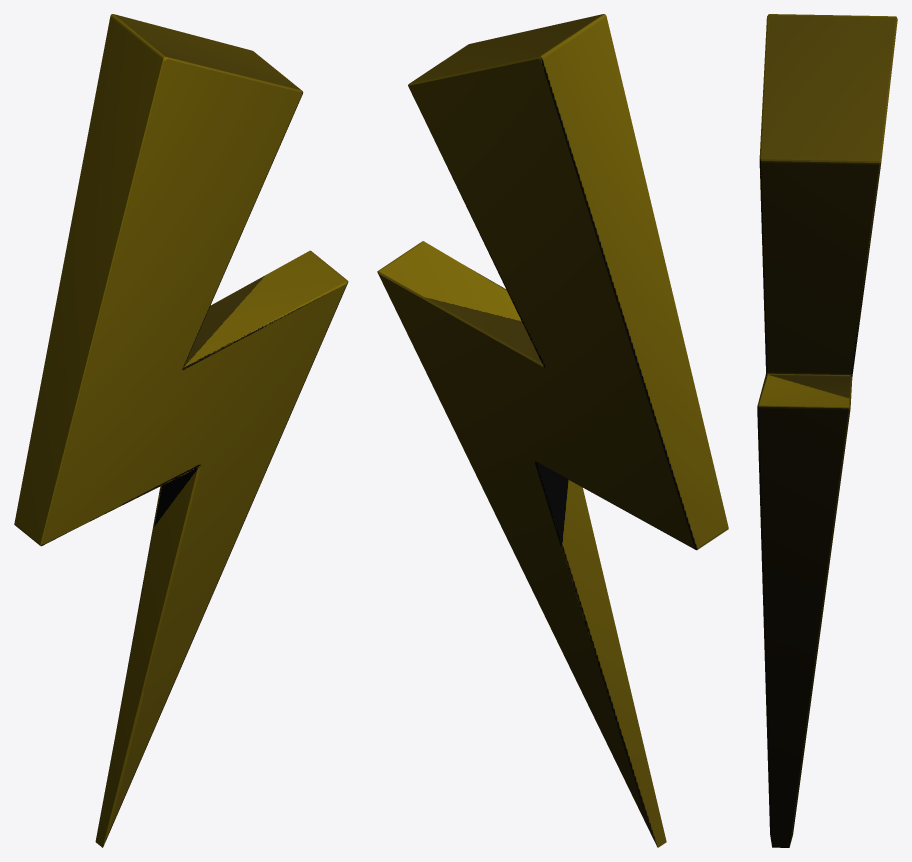
The model's file is ThunderObject.obj.
3 views of the same model, side by side, from view 1: azimuth 30°, elevation 25°; view 2: azimuth 150°, elevation 25°; view 3: azimuth 270°, elevation 25° (orthographic). The views are drawn at different scales.
Visible parts, largest first — view 1: Thunder_Untitled.005; view 2: Thunder_Untitled.005; view 3: Thunder_Untitled.005.
Part boxes in pixels (<box>): Thunder_Untitled.005: <box>14,14,348,847</box>; Thunder_Untitled.005: <box>377,14,728,847</box>; Thunder_Untitled.005: <box>757,14,897,847</box>.
Bounding box in the file's own units: 2.15 × 5.25 × 0.771.
Materials: 1 (1 with a texture image).
